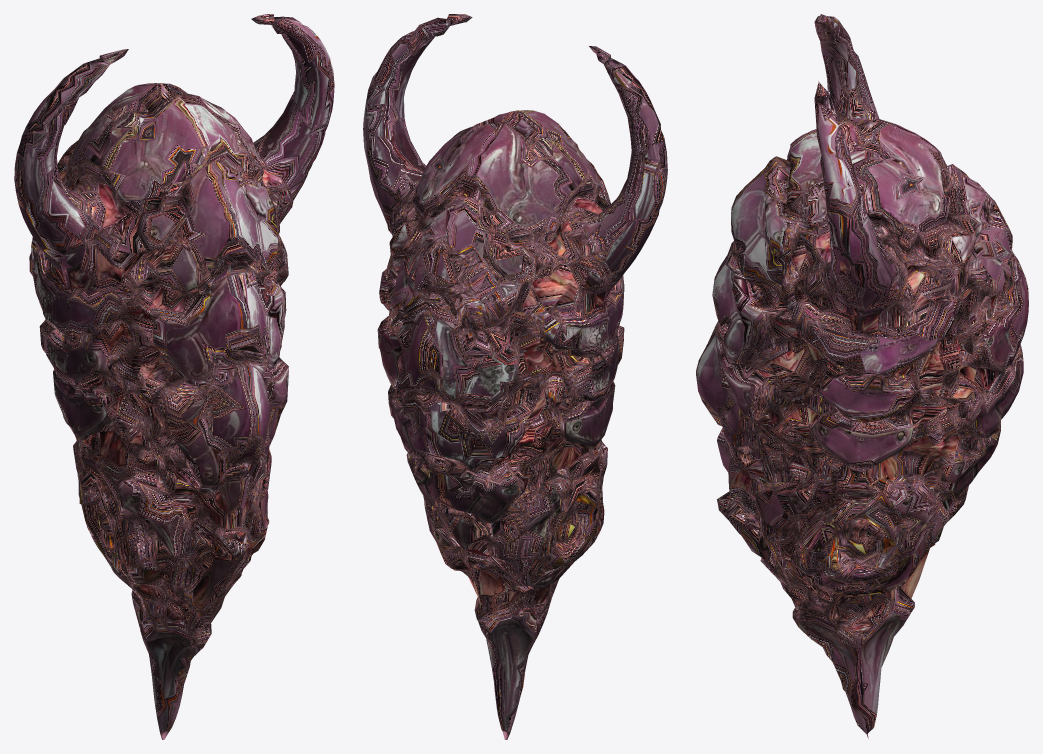
3 views of the same model, side by side, from view 1: azimuth 30°, elevation 25°; view 2: azimuth 150°, elevation 25°; view 3: azimuth 270°, elevation 25° (orthographic). The views are drawn at different scales.
Size of the model in its own units: 0.4512 by 0.9996 by 0.4373.
1 material, 1 textured.
